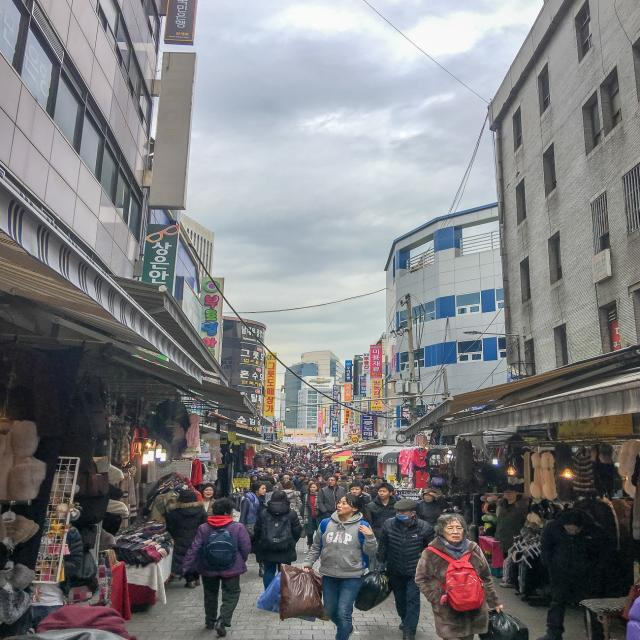body: (298, 488, 384, 640), (412, 512, 506, 640), (176, 496, 253, 638), (533, 507, 613, 640), (372, 498, 438, 640), (232, 443, 384, 491), (252, 490, 304, 591), (1, 604, 146, 640), (163, 488, 208, 589), (42, 504, 83, 594), (362, 481, 402, 573), (237, 481, 270, 578), (493, 484, 530, 560), (299, 482, 322, 552), (498, 550, 531, 596), (415, 488, 451, 528), (316, 474, 346, 518), (278, 480, 304, 529), (620, 577, 640, 640), (450, 494, 491, 511), (199, 482, 217, 518), (389, 472, 411, 500), (278, 474, 297, 491), (336, 474, 352, 494), (370, 480, 384, 502), (299, 478, 318, 493), (362, 478, 372, 496), (352, 472, 366, 481), (304, 468, 314, 478), (300, 469, 306, 474)
